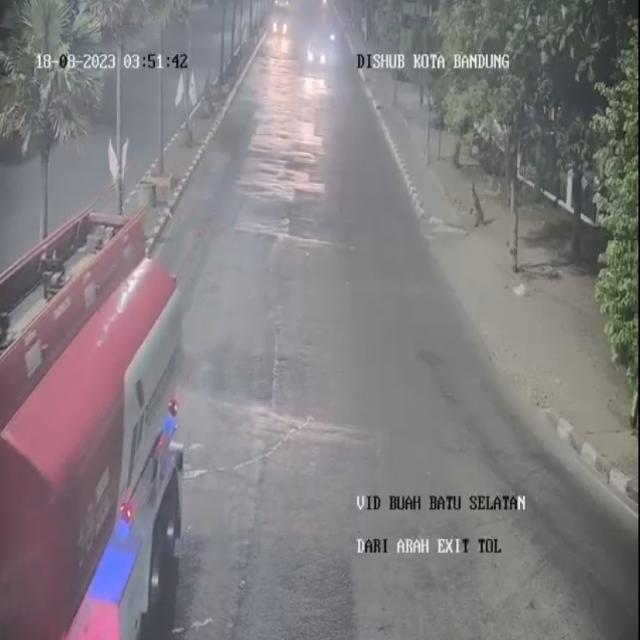cars: (306, 26, 340, 80)
truck: (0, 253, 188, 640)
